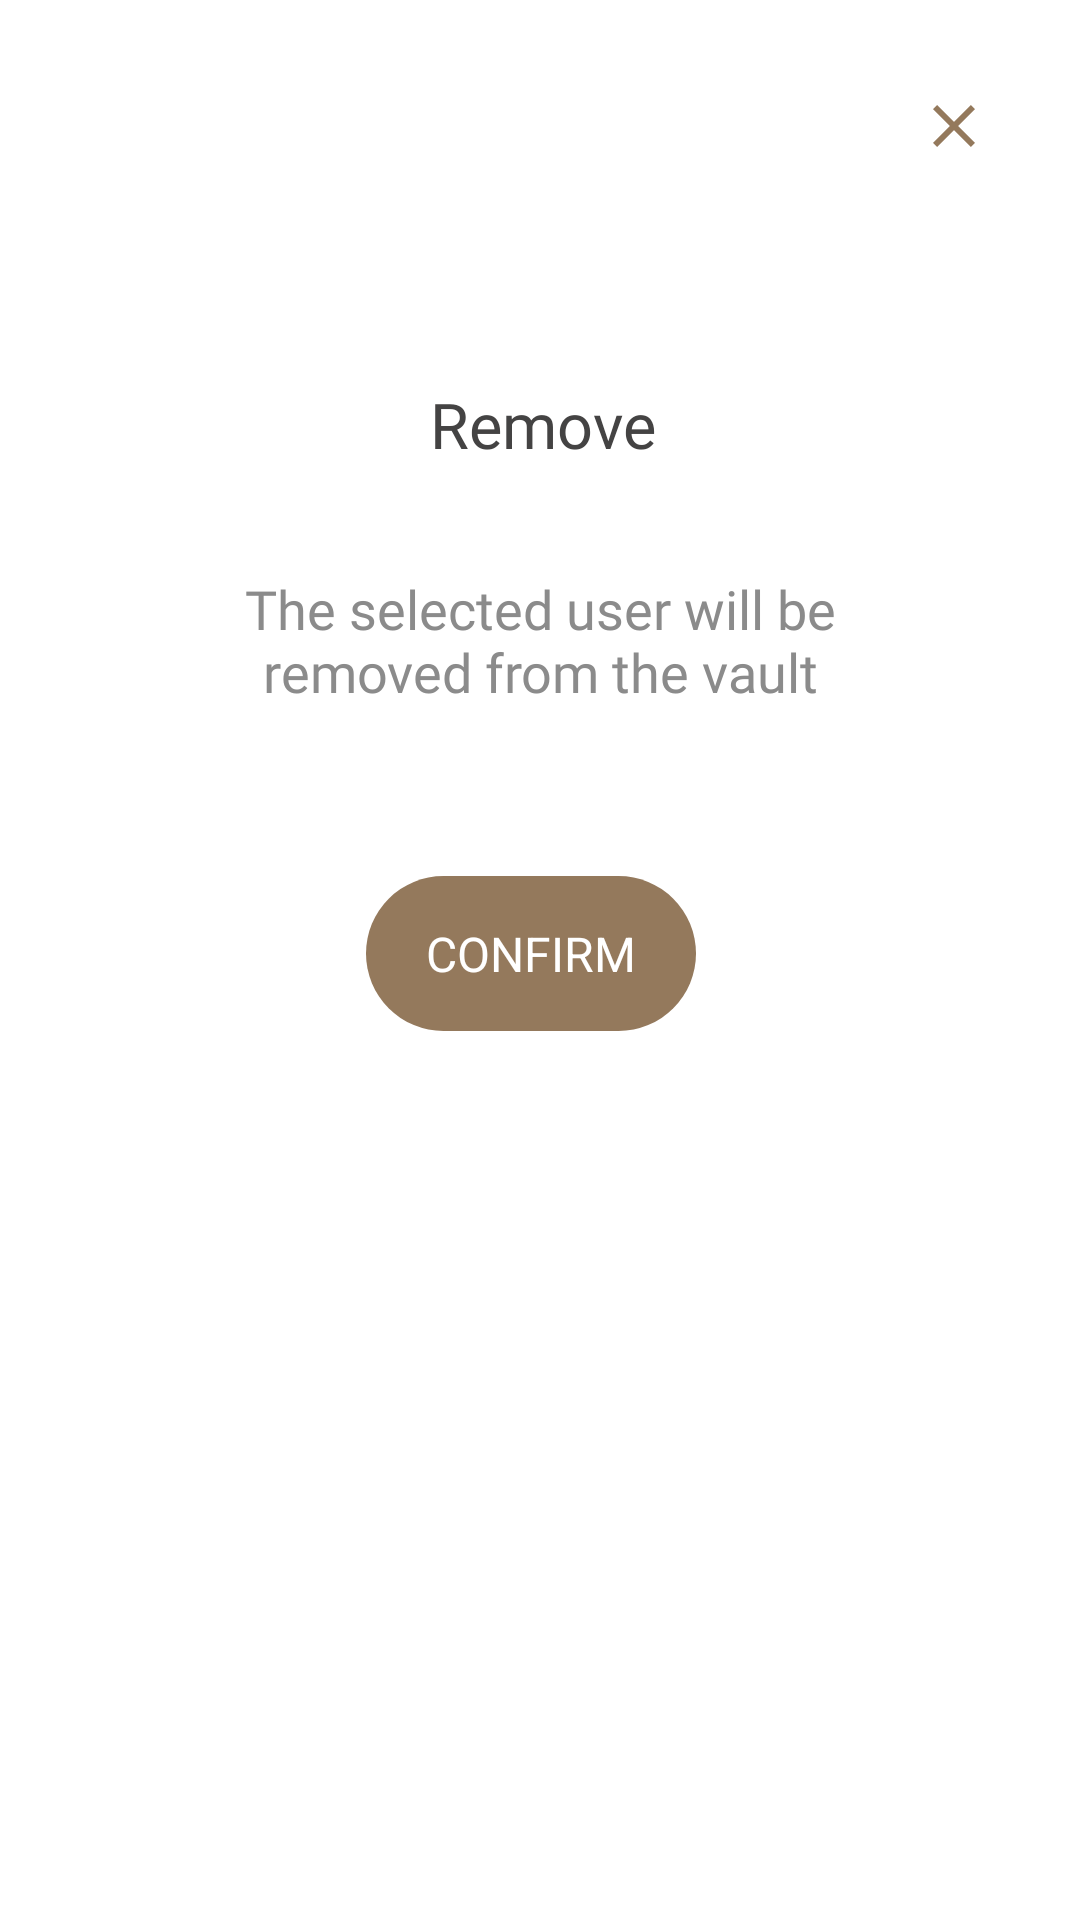

Named icons in this screenshot (1080 × 1920) and their centers, (x=x, y=y):
cross symbol: (x=954, y=126)
